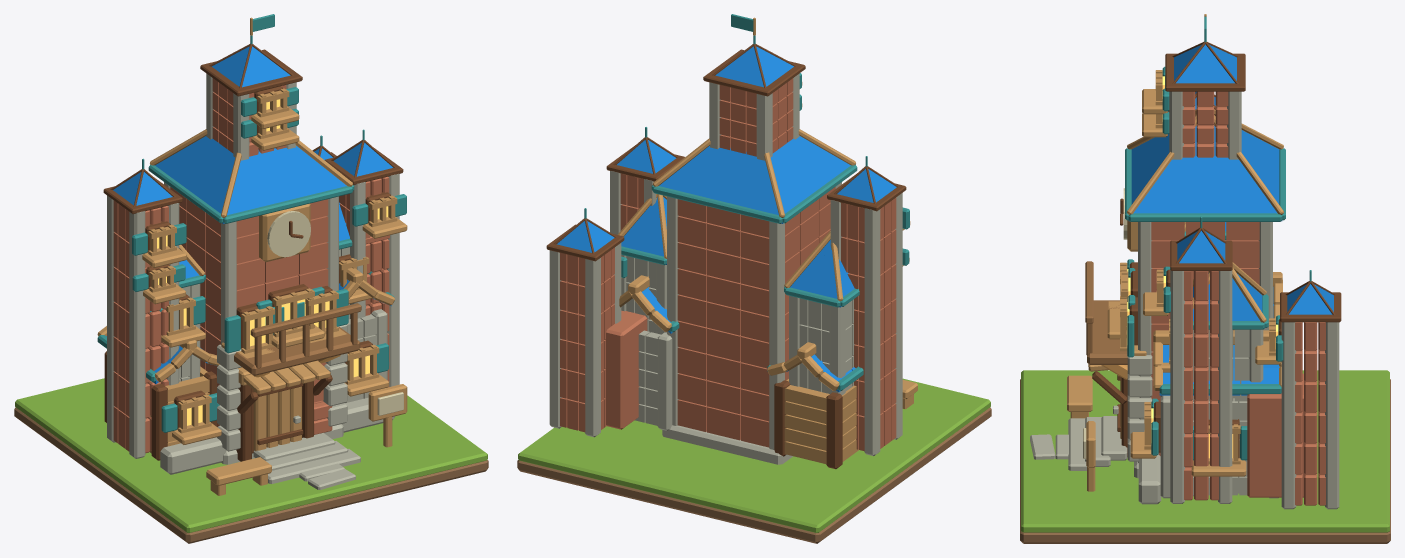
Rendered from town_hall_l12_active_LOD0.glb.
3 views of the same model, side by side, from view 1: azimuth 30°, elevation 25°; view 2: azimuth 150°, elevation 25°; view 3: azimuth 270°, elevation 25° (orthographic). The views are drawn at different scales.
Parts seen in each view (by area): view 1: town_hall_l12_active_grass_tile, town_hall_l12_active_earth_tile, town_hall_l12_active_corner_reinforcement.024, town_hall_l12_active_hip_roof_shingle.002, town_hall_l12_active_hip_roof_shingle.011, town_hall_l12_active_premium_balcony_floor, town_hall_l12_active_corner_reinforcement.030, town_hall_l12_active_corner_reinforcement.025, town_hall_l12_active_central_spire_roof_shingle, town_hall_l12_active_stone_foundation_course, town_hall_l12_active_corner_reinforcement, town_hall_l12_active_hip_roof_shingle.001 (+37 smaller); view 2: town_hall_l12_active_grass_tile, town_hall_l12_active_earth_tile, town_hall_l12_active_corner_reinforcement.025, town_hall_l12_active_vertical_corner_connector, town_hall_l12_active_hip_roof_shingle.008, town_hall_l12_active_corner_reinforcement.033, town_hall_l12_active_corner_reinforcement.001, town_hall_l12_active_hip_roof_shingle.011, town_hall_l12_active_corner_reinforcement.003, town_hall_l12_active_corner_reinforcement.035, town_hall_l12_active_foundation, town_hall_l12_active_corner_reinforcement.024 (+52 smaller); view 3: town_hall_l12_active_grass_tile, town_hall_l12_active_earth_tile, town_hall_l12_active_hip_roof_shingle.005, town_hall_l12_active_vertical_corner_connector, town_hall_l12_active_corner_reinforcement.030, town_hall_l12_active_corner_reinforcement.031, town_hall_l12_active_corner_reinforcement.035, town_hall_l12_active_corner_reinforcement.034, town_hall_l12_active_hip_roof_shingle.004, town_hall_l12_active_central_spire_roof_shingle, town_hall_l12_active_corner_reinforcement.002, town_hall_l12_active_premium_balcony_floor (+42 smaller).
Boxes of the visible parts, box(x1,y1,x2,y2) form: town_hall_l12_active_grass_tile: box(15, 378, 487, 532); town_hall_l12_active_earth_tile: box(14, 407, 488, 543); town_hall_l12_active_corner_reinforcement.024: box(129, 211, 145, 458); town_hall_l12_active_hip_roof_shingle.002: box(223, 162, 346, 223); town_hall_l12_active_hip_roof_shingle.011: box(155, 148, 229, 223); town_hall_l12_active_premium_balcony_floor: box(234, 327, 360, 375); town_hall_l12_active_corner_reinforcement.030: box(387, 173, 399, 386); town_hall_l12_active_corner_reinforcement.025: box(107, 195, 115, 442); town_hall_l12_active_central_spire_roof_shingle: box(212, 46, 290, 87); town_hall_l12_active_stone_foundation_course: box(160, 437, 225, 474); town_hall_l12_active_corner_reinforcement: box(221, 221, 236, 450); town_hall_l12_active_hip_roof_shingle.001: box(235, 146, 317, 182); town_hall_l12_active_grass_tile: box(518, 378, 990, 532); town_hall_l12_active_earth_tile: box(517, 407, 991, 543); town_hall_l12_active_corner_reinforcement.025: box(864, 208, 880, 456); town_hall_l12_active_vertical_corner_connector: box(605, 310, 648, 429); town_hall_l12_active_hip_roof_shingle.008: box(659, 162, 782, 223); town_hall_l12_active_corner_reinforcement.033: box(585, 258, 600, 437); town_hall_l12_active_corner_reinforcement.001: box(769, 221, 784, 449); town_hall_l12_active_hip_roof_shingle.011: box(776, 148, 850, 223); town_hall_l12_active_corner_reinforcement.003: box(667, 196, 678, 425); town_hall_l12_active_corner_reinforcement.035: box(549, 250, 561, 428); town_hall_l12_active_foundation: box(662, 425, 792, 464); town_hall_l12_active_corner_reinforcement.024: box(894, 193, 902, 439); town_hall_l12_active_grass_tile: box(1021, 370, 1389, 532); town_hall_l12_active_earth_tile: box(1020, 379, 1390, 543); town_hall_l12_active_hip_roof_shingle.005: box(1128, 182, 1282, 221); town_hall_l12_active_vertical_corner_connector: box(1247, 373, 1304, 497); town_hall_l12_active_corner_reinforcement.030: box(1170, 270, 1184, 503); town_hall_l12_active_corner_reinforcement.031: box(1218, 270, 1232, 503); town_hall_l12_active_corner_reinforcement.035: box(1325, 322, 1339, 509); town_hall_l12_active_corner_reinforcement.034: box(1281, 322, 1296, 509); town_hall_l12_active_hip_roof_shingle.004: box(1156, 146, 1254, 181); town_hall_l12_active_central_spire_roof_shingle: box(1174, 44, 1236, 83); town_hall_l12_active_corner_reinforcement.002: box(1138, 222, 1152, 462); town_hall_l12_active_premium_balcony_floor: box(1087, 300, 1127, 364).
Size of the model in its own units: 3.6 by 4.85 by 3.6.
